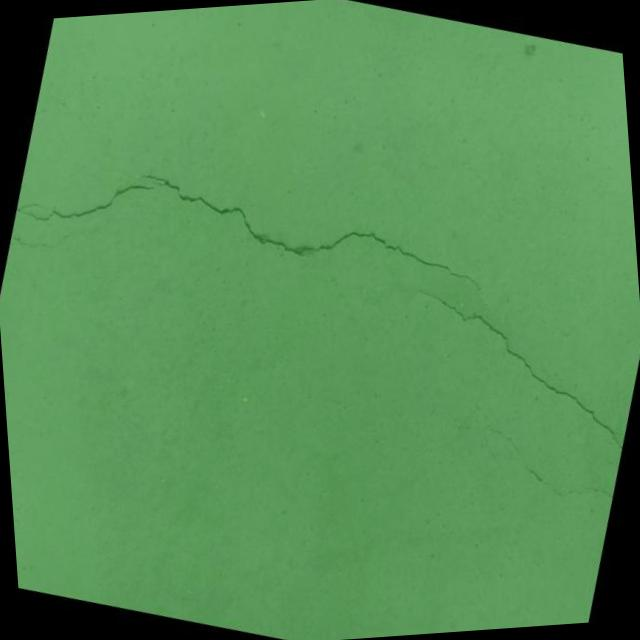crack: (120, 146, 518, 346), (387, 273, 640, 464), (393, 393, 624, 520), (10, 152, 162, 250), (7, 208, 97, 264)
